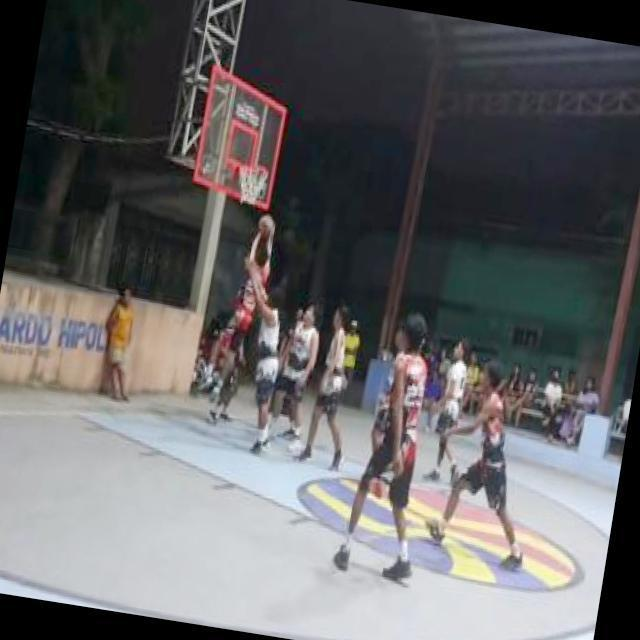ball: (256, 212, 277, 242), (237, 163, 271, 177)
